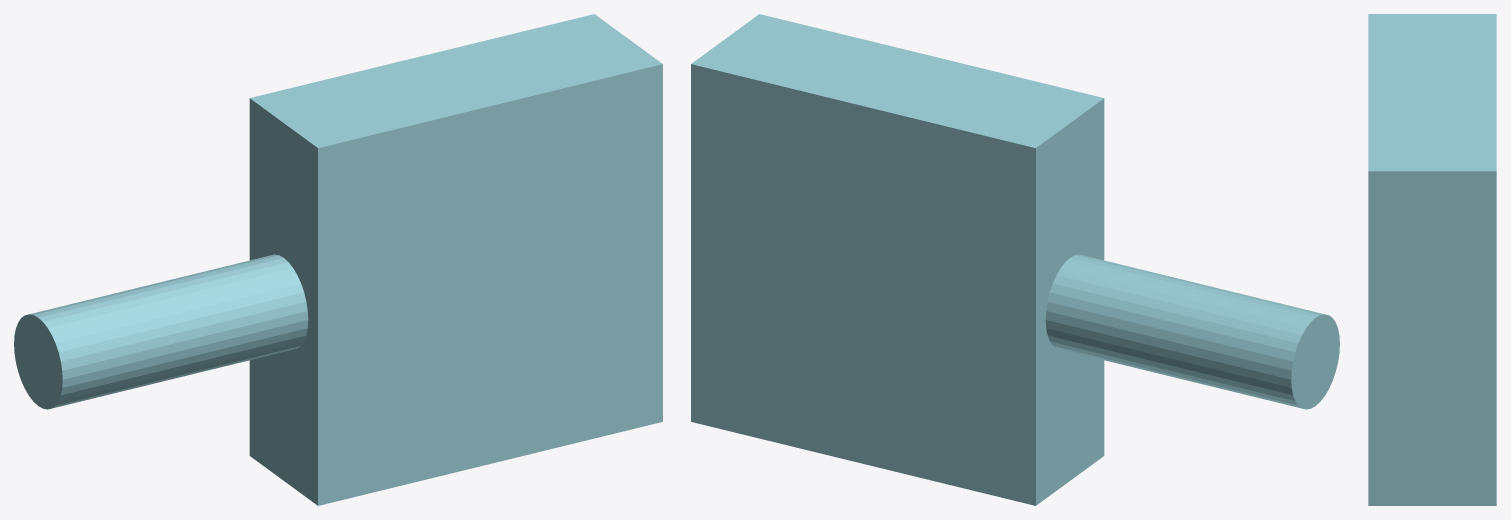
The model's file is cylinder_brush_v11014.obj.
The picture shows the model from 3 angles, left to right: view 1: azimuth 30°, elevation 25°; view 2: azimuth 150°, elevation 25°; view 3: azimuth 270°, elevation 25°; orthographic projection. The views are drawn at different scales.
Size of the model in its own units: 0.1656 by 0.0959 by 0.0333.
Materials: 1 (1 with a texture image).
